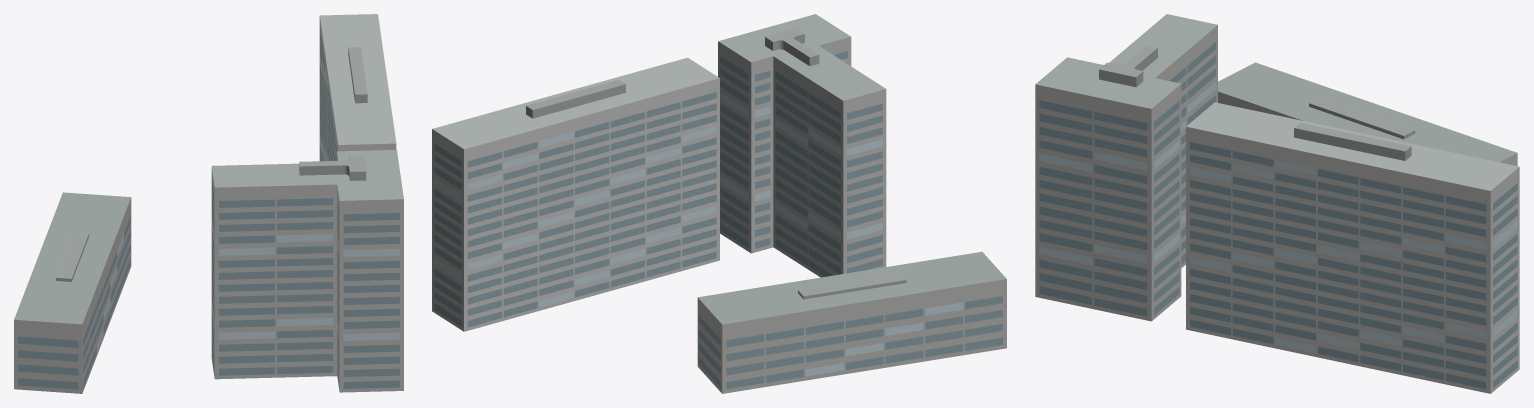
The model's file is apt-a15881702.glb.
3 views of the same model, side by side, from view 1: azimuth 30°, elevation 25°; view 2: azimuth 150°, elevation 25°; view 3: azimuth 270°, elevation 25° (orthographic). The views are drawn at different scales.
Visible parts, largest first — view 1: apt-a15881702; view 2: apt-a15881702; view 3: apt-a15881702.
Boxes of the visible parts, x1=… form: apt-a15881702: x1=14, y1=14, x2=403, y2=393; apt-a15881702: x1=432, y1=14, x2=1006, y2=393; apt-a15881702: x1=1035, y1=14, x2=1519, y2=393.
Bounding box in the file's own units: 108 × 44 × 86.77.
